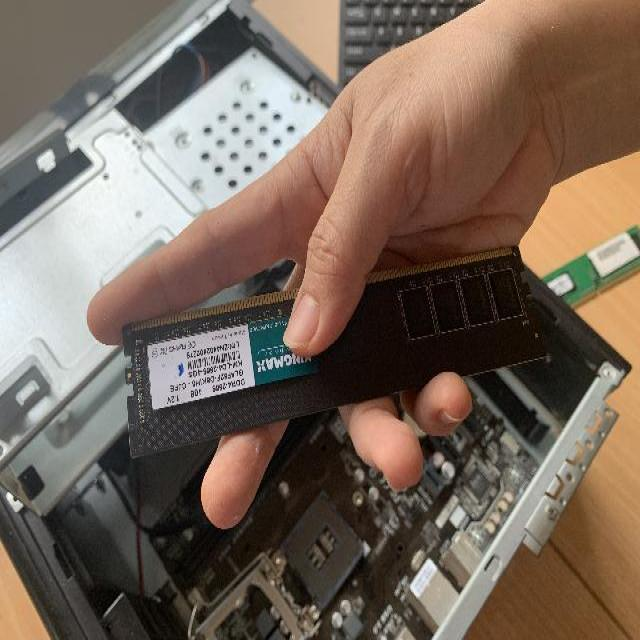RAM: (120, 245, 550, 456), (548, 211, 640, 306)
